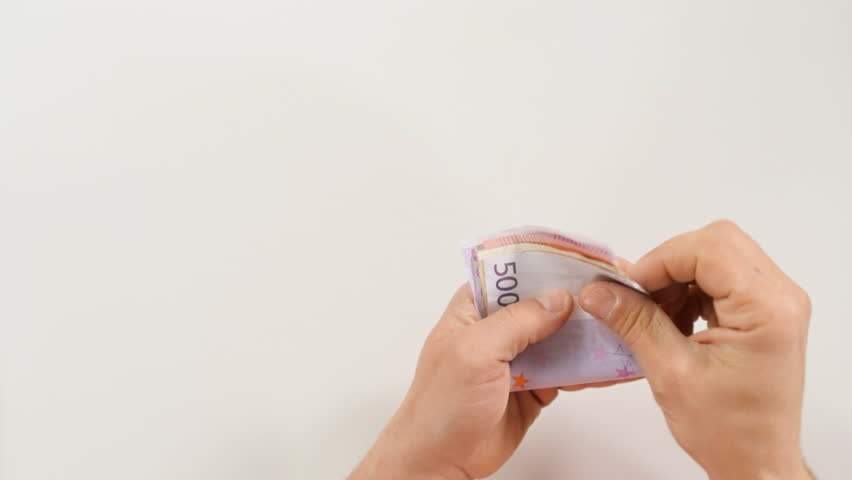billete: (459, 224, 653, 396)
